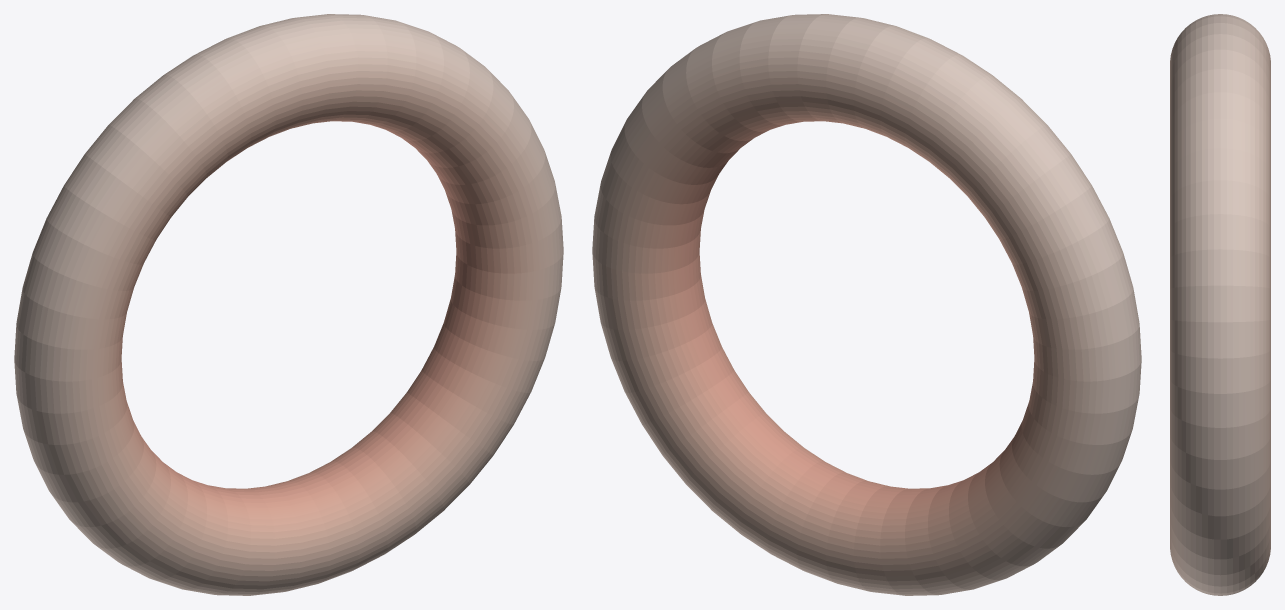
The picture shows the model from 3 angles, left to right: view 1: azimuth 30°, elevation 25°; view 2: azimuth 150°, elevation 25°; view 3: azimuth 270°, elevation 25°; orthographic projection. The views are drawn at different scales.
Visible parts, largest first — view 1: world; view 2: world; view 3: world.
Boxes of the visible parts, x1,y1,x2,y2 form: world: (14,14,563,595); world: (592,14,1141,595); world: (1170,14,1270,595).
Size of the model in its own units: 31.47 by 31.4 by 5.46.
